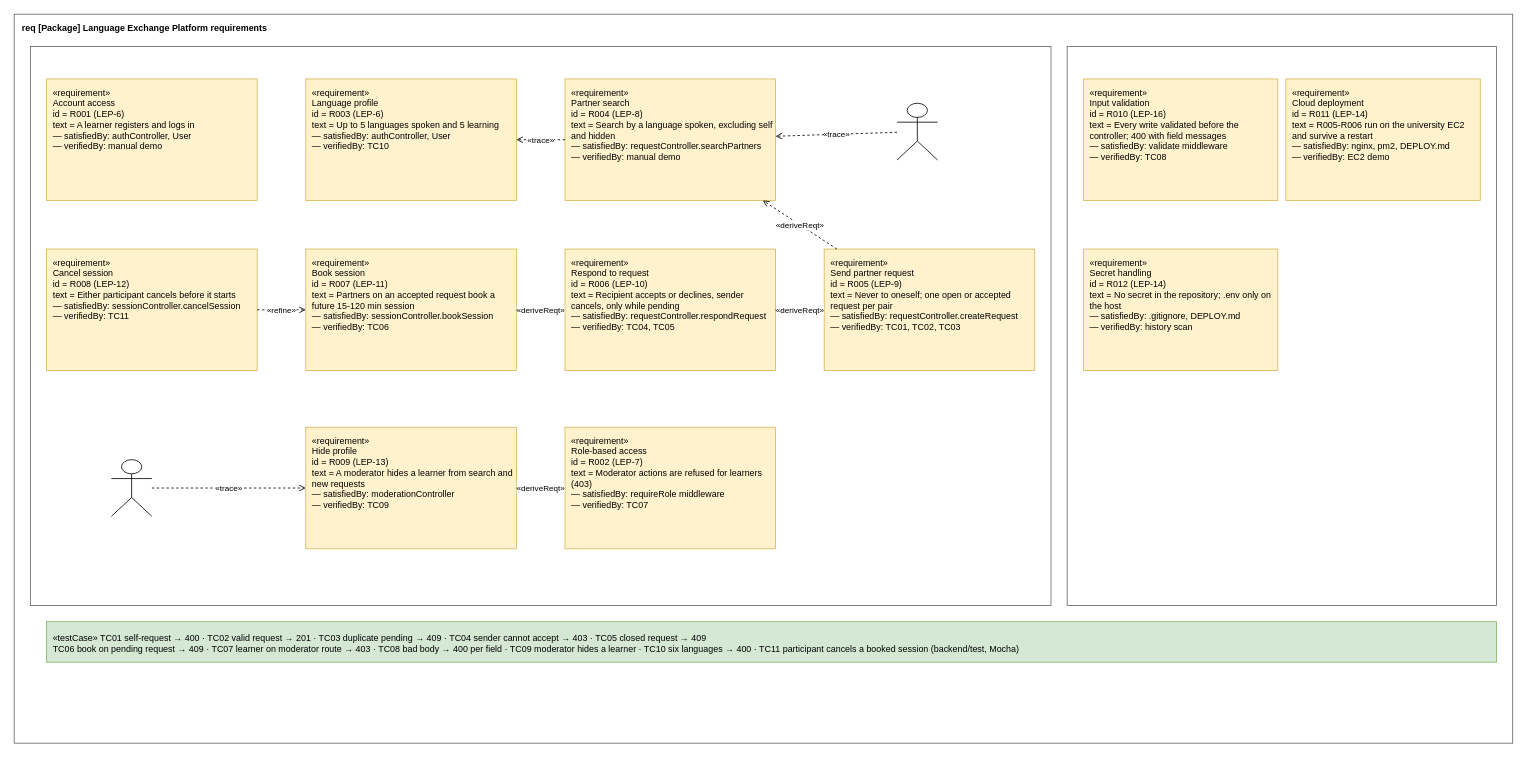
Some shapes in this 1527 by 757 pixel diagram are drawn without their labels. The shapes that lost their labels are listed below. From the top down, each one's box as (x1, y1, x2, y2) in pixels, then its label:
(896, 102, 938, 160): Learner
(30, 46, 1051, 605): «requirement» Functional requirements (containment)
(1066, 46, 1496, 605): «requirement» Non-functional requirements (containment)
(111, 459, 152, 516): Moderator
